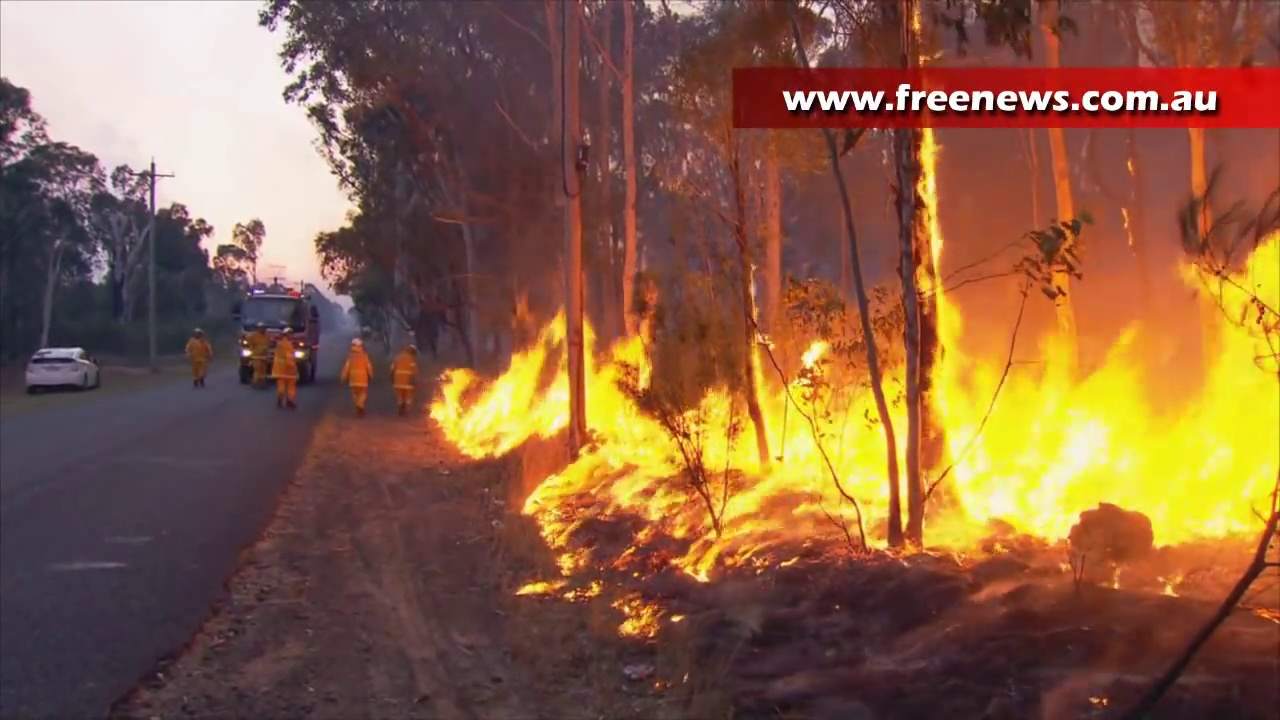fire: (439, 251, 901, 556), (929, 281, 1280, 540), (439, 315, 565, 456), (916, 126, 940, 302), (616, 601, 658, 637)
